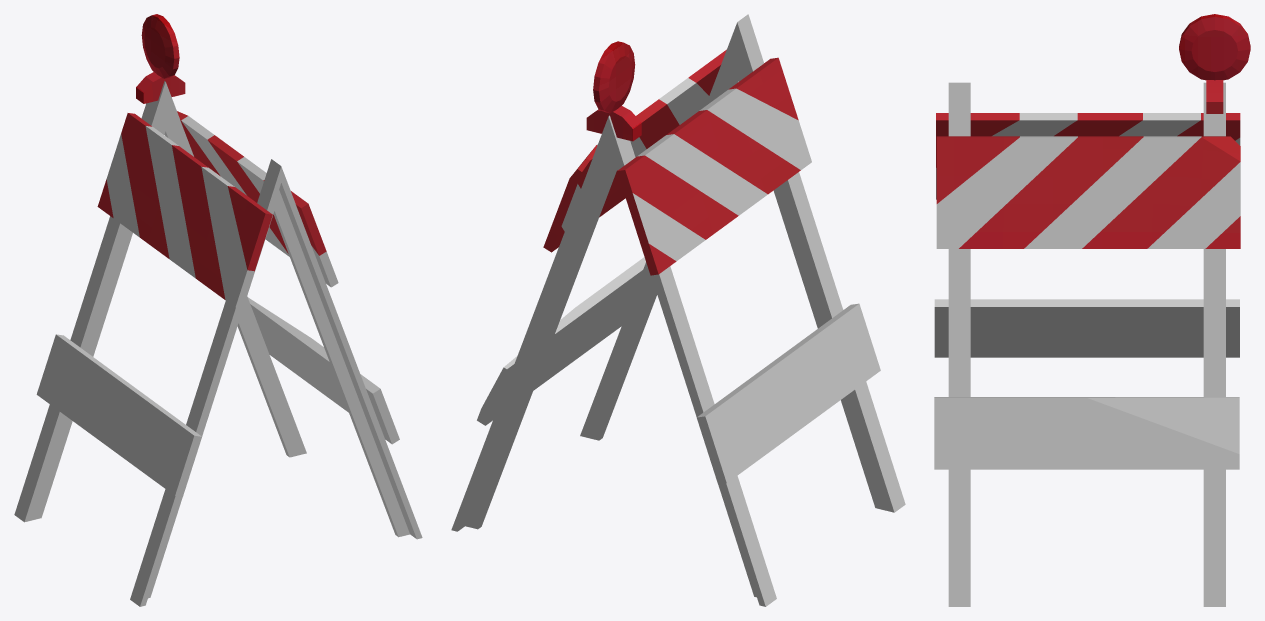
Rendered from RoadBlock03.fbx.
3 renders of one model, left to right at view 1: azimuth 30°, elevation 25°; view 2: azimuth 150°, elevation 25°; view 3: azimuth 270°, elevation 25°, orthographic. The views are drawn at different scales.
Visible parts, largest first — view 1: SM_Sign_Roadlblock_03b.mo; view 2: SM_Sign_Roadlblock_03b.mo; view 3: SM_Sign_Roadlblock_03b.mo.
Part boxes in pixels (x1=…): SM_Sign_Roadlblock_03b.mo: x1=14, y1=14, x2=422, y2=606; SM_Sign_Roadlblock_03b.mo: x1=451, y1=14, x2=905, y2=606; SM_Sign_Roadlblock_03b.mo: x1=934, y1=14, x2=1250, y2=606.
Bounding box in the file's own units: 71.04 × 112 × 62.44.
